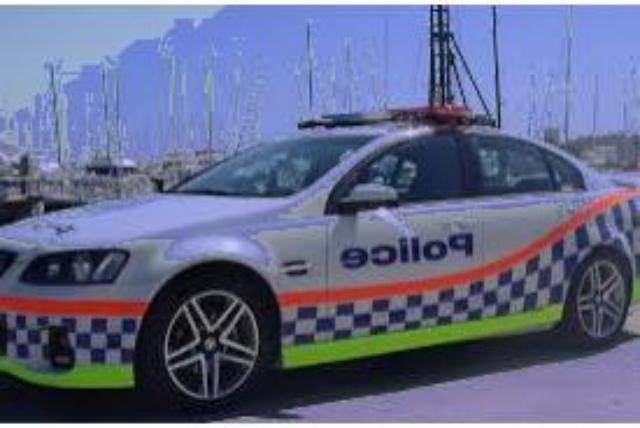police_car: (0, 105, 640, 421)
